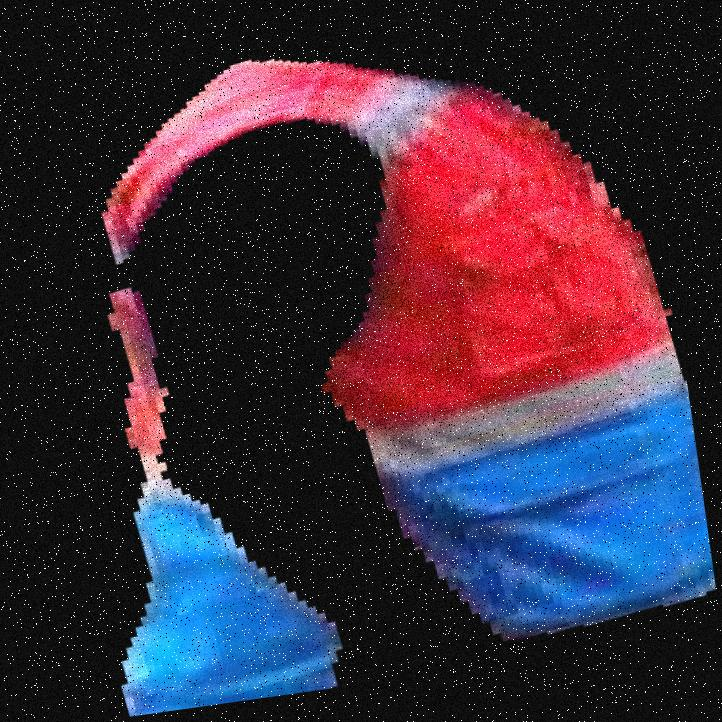Colete: (379, 0, 637, 721)
